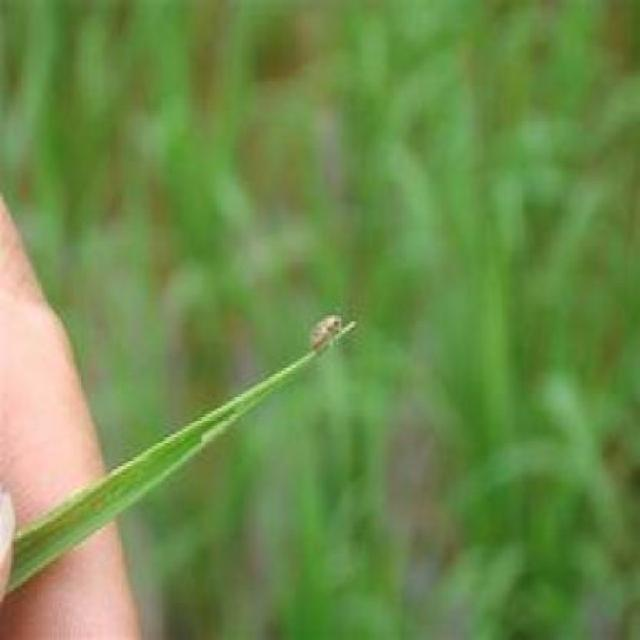rice-bug: (309, 309, 343, 357)
